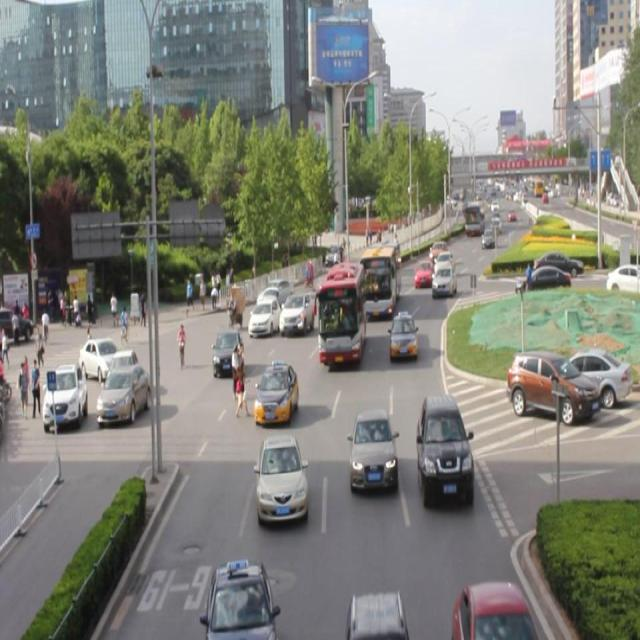car: (416, 394, 472, 498), (207, 562, 273, 640), (451, 577, 532, 640), (256, 436, 306, 520), (350, 408, 396, 492), (346, 585, 404, 640), (254, 360, 298, 422), (280, 286, 315, 336), (213, 325, 247, 373), (386, 312, 416, 358), (249, 293, 282, 334), (431, 260, 454, 297), (413, 258, 434, 287), (434, 252, 452, 284)
van: (319, 261, 361, 358), (362, 243, 399, 320)
